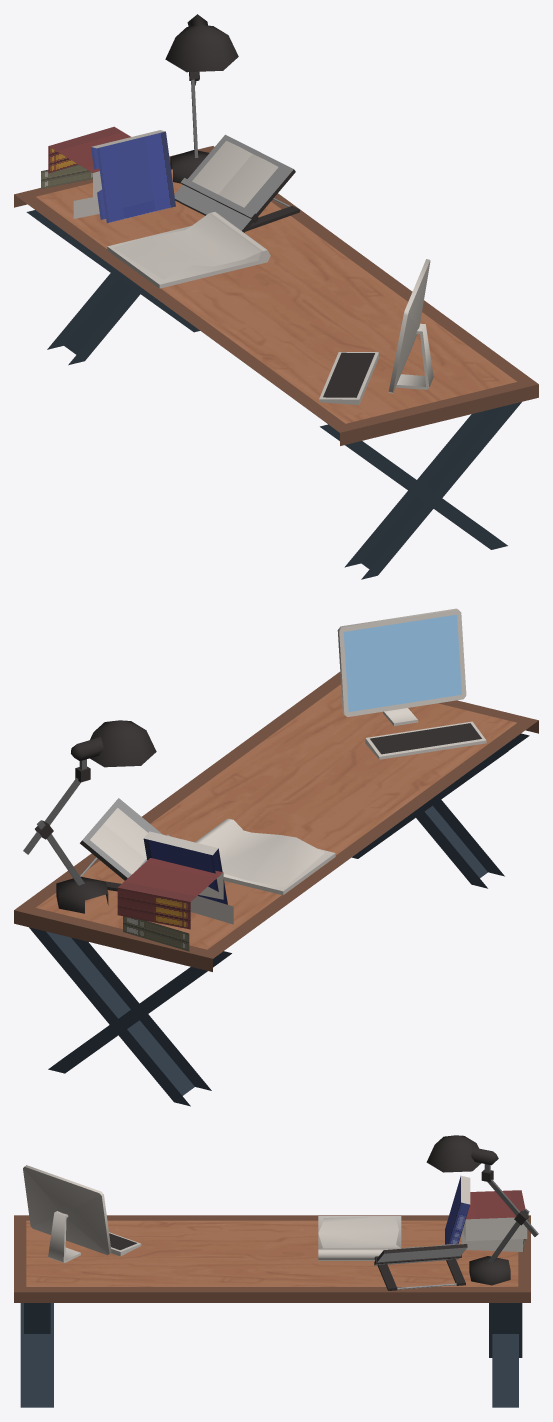
The model's file is interior_D_009.fbx.
3 views of the same model, one above another, from view 1: azimuth 30°, elevation 25°; view 2: azimuth 150°, elevation 25°; view 3: azimuth 270°, elevation 25° (orthographic). The views are drawn at different scales.
Visible parts, largest first — view 1: interior_D_009; view 2: interior_D_009; view 3: interior_D_009.
Part boxes in pixels (x1,y1,x2,y2): interior_D_009: (14, 14, 538, 579); interior_D_009: (14, 608, 538, 1106); interior_D_009: (14, 1135, 538, 1407).
Bounding box in the file's own units: 90.34 × 142 × 260.
